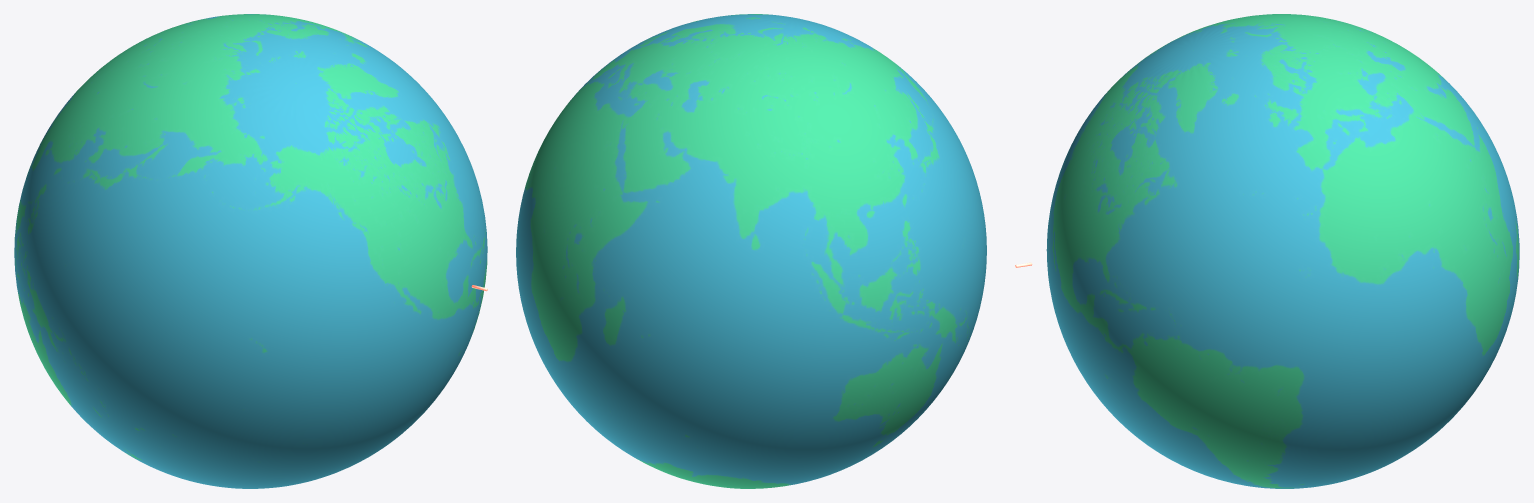
Rendered from Earth.glb.
The picture shows the model from 3 angles, left to right: view 1: azimuth 30°, elevation 25°; view 2: azimuth 150°, elevation 25°; view 3: azimuth 270°, elevation 25°; orthographic projection.
Visible parts, largest first — view 1: Earth; view 2: Earth; view 3: Earth.
Boxes of the visible parts, box(x1,y1,x2,y2) form: Earth: box(14, 14, 487, 488); Earth: box(516, 14, 986, 488); Earth: box(1015, 14, 1519, 488).
Size of the model in its own units: 2.65 by 2.67 by 2.83.
2 materials, 1 textured.
